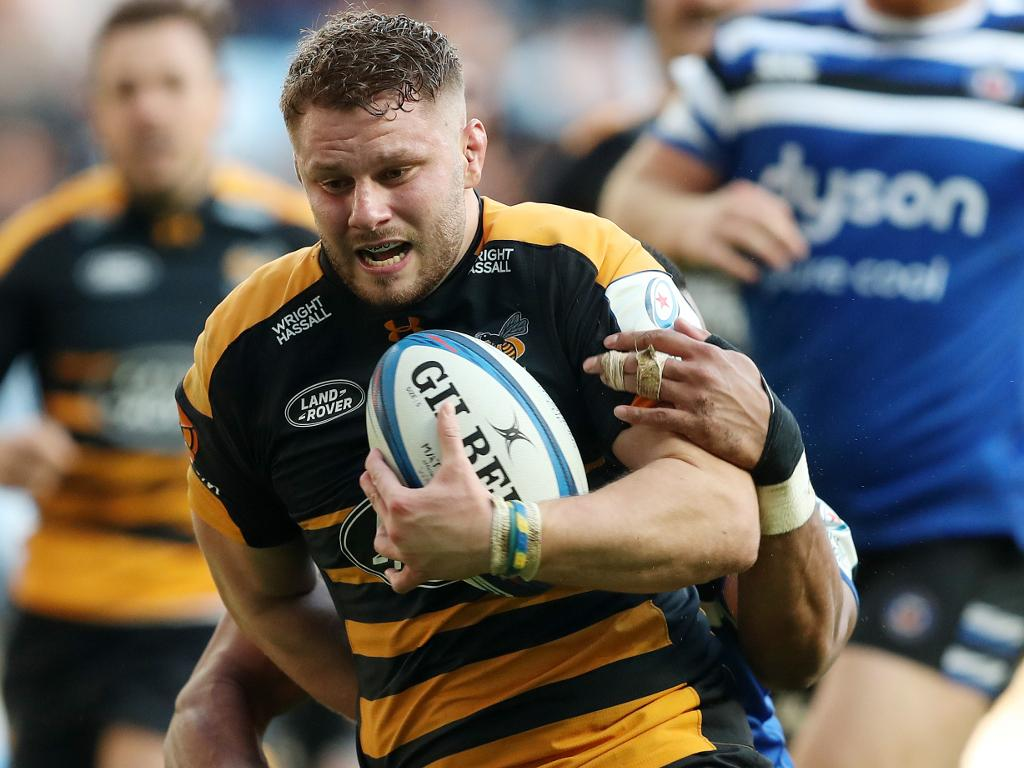ballon_rugby: (354, 316, 594, 604)
